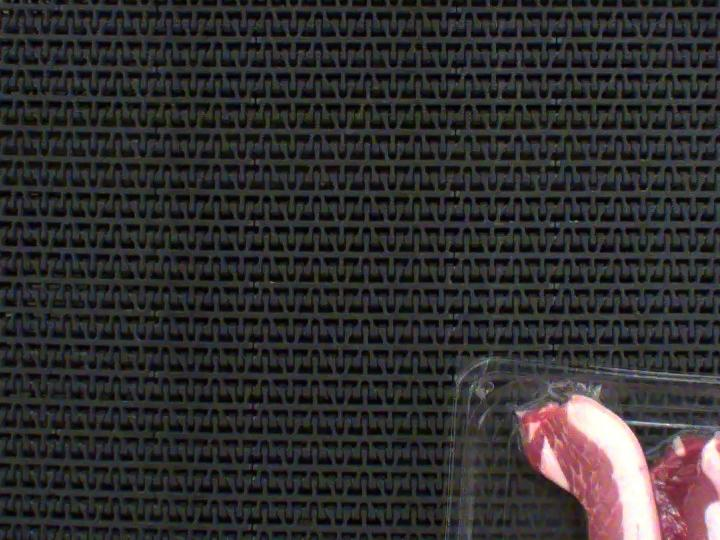packaging-error: (514, 372, 616, 439)
unsealed: (650, 412, 720, 461)
